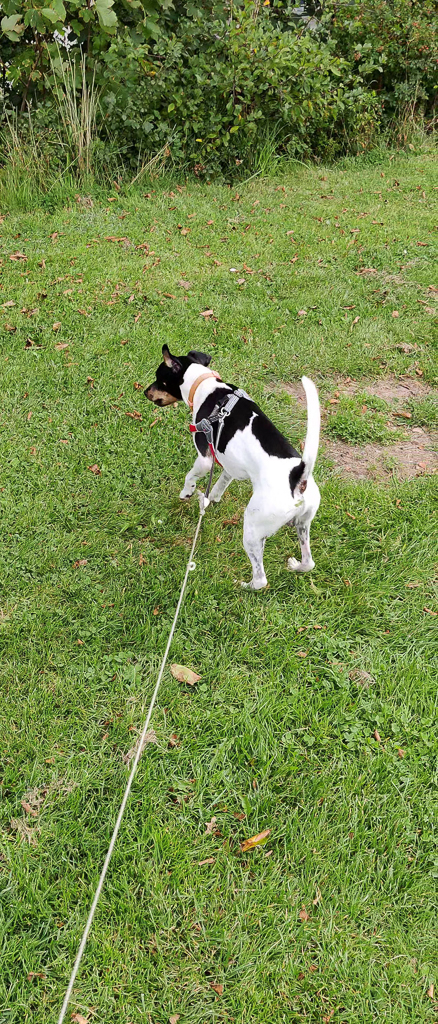Dog: (138, 330, 356, 618)
